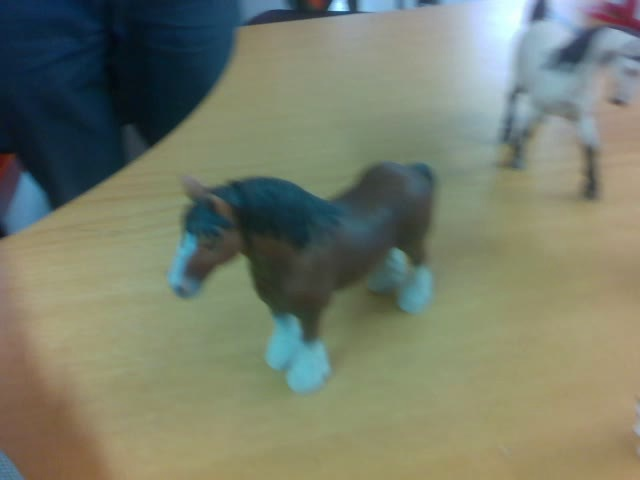toy: (167, 161, 437, 398)
